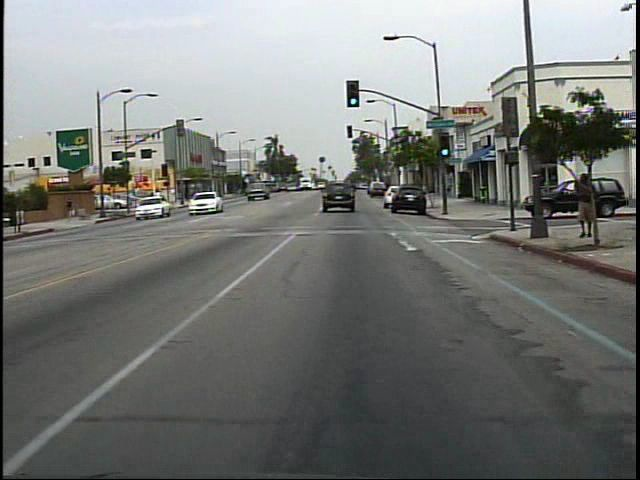person: (571, 167, 597, 245), (65, 193, 84, 222), (152, 185, 168, 210)
